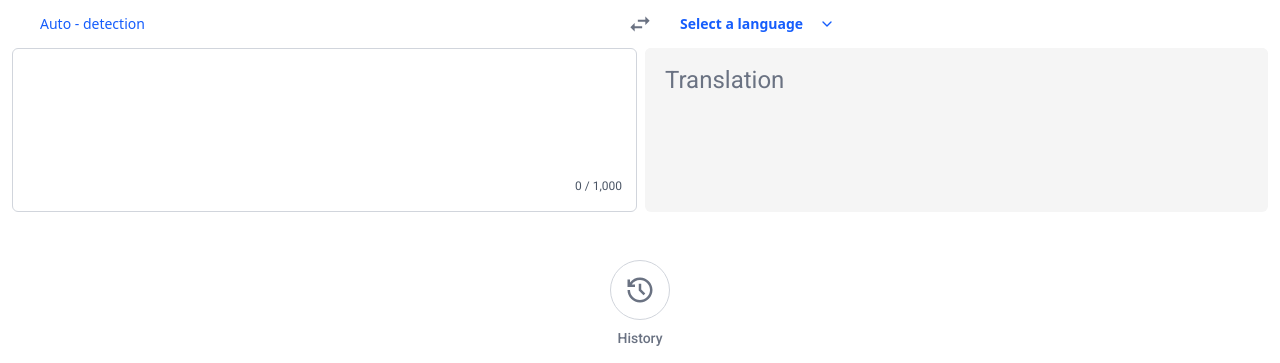
Scenario: TranslationForm › types text, selects a language, and shows the translated output
# Type into the source textarea (the first textbox)
Type "Hello" into the 1st text box at coordinates (324, 97), box x1=13 y1=49 x2=636 y2=145
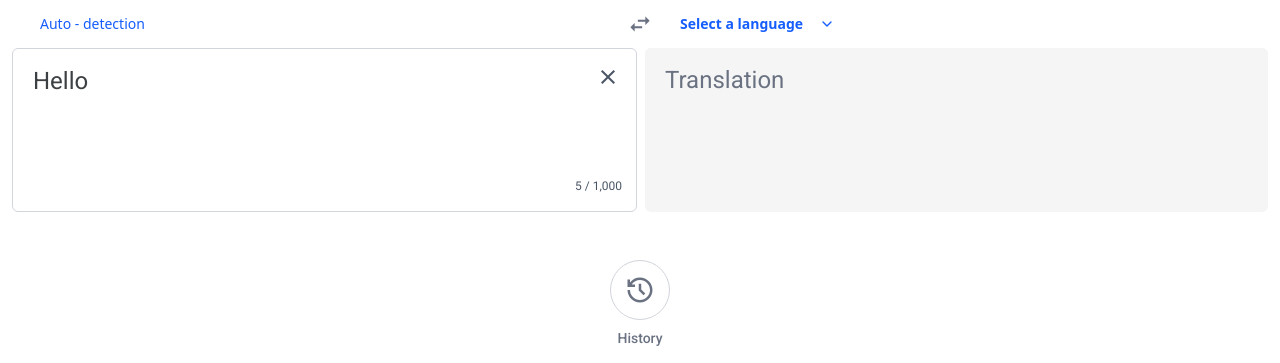
# Open the language dropdown and select French
Click the dropdown at coordinates (760, 24), box x1=672 y1=8 x2=848 y2=40
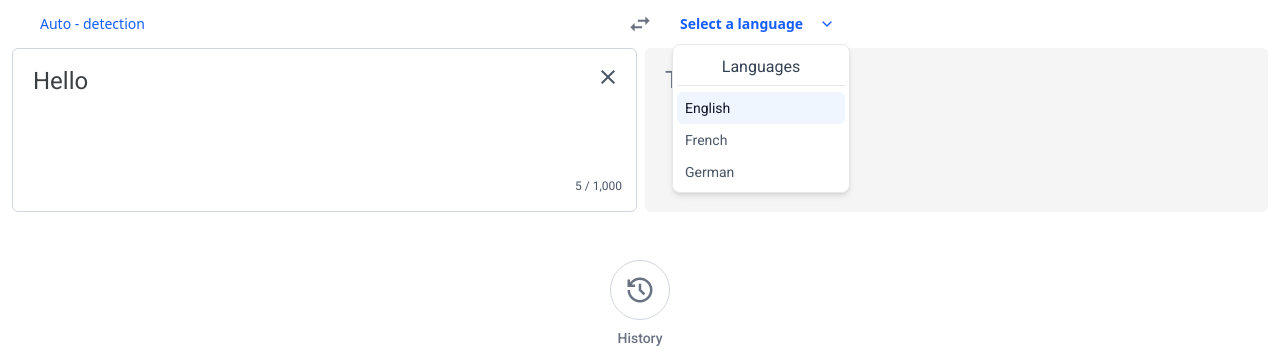
Click the option "French" at coordinates (706, 140), box x1=685 y1=132 x2=727 y2=148
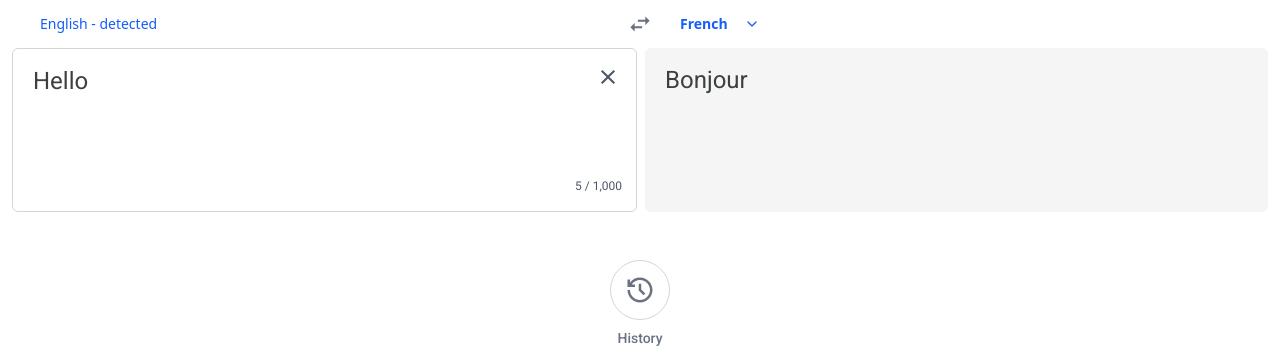
Result: the 2nd text box showing "Bonjour" is shown at x1=645 y1=48 x2=1268 y2=144
